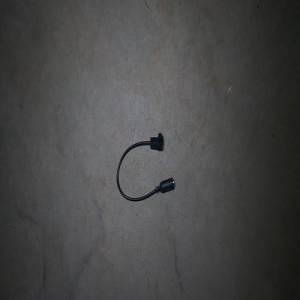Wire: (116, 132, 175, 201)
